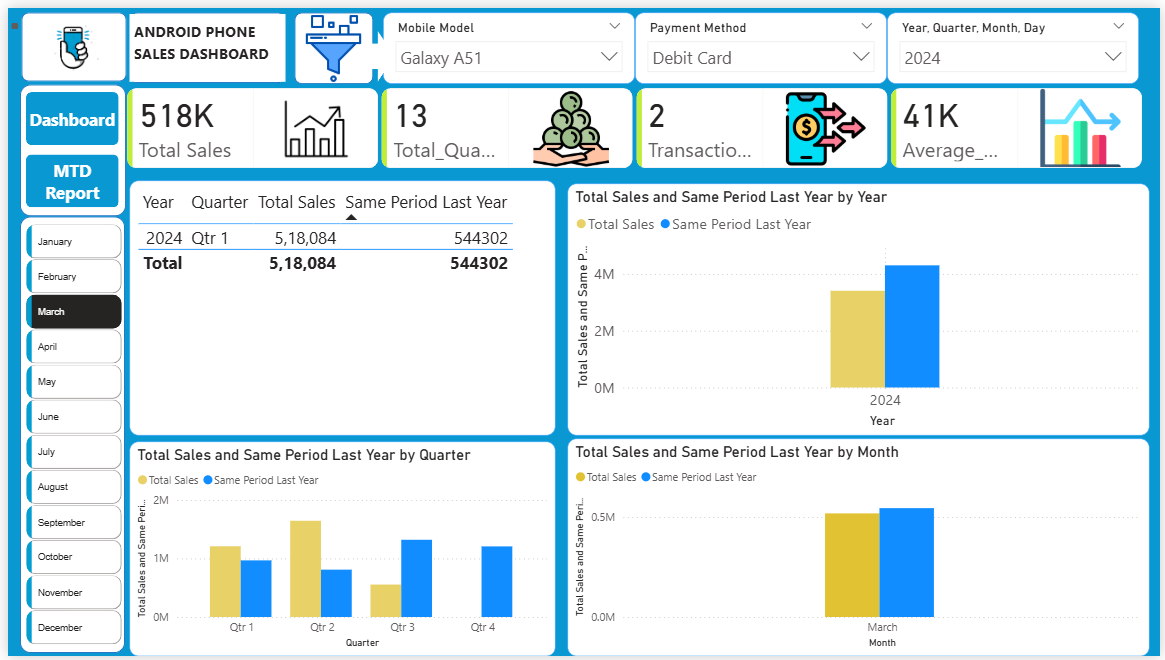

This screenshot's page, from the dashboard's own definition file:
{"tool":"powerbi","page":{"name":"Same Period Last Year","canvas":[1280,720],"ordinal":2},"visuals":[{"type":"shape","box":[13.3,231.7,116.7,485],"z":0},{"type":"shape","box":[15,5,116.7,76.7],"z":1000},{"type":"image","box":[0,13.3,145,65],"z":2000},{"type":"shape","box":[12.7,84.3,117.7,146.3],"z":3000},{"type":"cardVisual","fields":{"Data":["Android Smartphone Sales Report.Total Sales","Android Smartphone Sales Report.Total_Quantity","Android Smartphone Sales Report.Transactions","Android Smartphone Sales Report.Average_Price"]},"box":[115,71.7,1165,123.3],"z":4000},{"type":"slicer","fields":{"Values":["Android Smartphone Sales Report.Mobile Model"]},"box":[416.7,4.8,279.9,79.5],"z":5000},{"type":"slicer","fields":{"Values":["Android Smartphone Sales Report.Payment Method"]},"box":[696.7,4.8,279.9,79.5],"z":6000},{"type":"slicer","fields":{"Values":["Custom Calender.Date.Variation.Date Hierarchy.Year","Custom Calender.Date.Variation.Date Hierarchy.Quarter","Custom Calender.Date.Variation.Date Hierarchy.Month","Custom Calender.Date.Variation.Date Hierarchy.Day"]},"box":[976.6,4.8,279.9,79.5],"z":7000},{"type":"shape","box":[318.1,4.8,87.5,79.5],"z":8000},{"type":"image","box":[308.6,6.4,106.6,76.3],"z":9000},{"type":"shape","box":[391.3,25.4,38.2,57.3],"z":10000},{"type":"shape","box":[135,5,173.3,78.3],"z":11000},{"type":"textbox","box":[135,6.7,173.3,75],"z":12000},{"type":"advancedSlicerVisual","fields":{"Values":["Custom Calender.Date.Variation.Date Hierarchy.Month"]},"box":[15,235,116.7,485],"z":14000},{"type":"tableEx","fields":{"Values":["Custom Calender.Date.Variation.Date Hierarchy.Year","Custom Calender.Date.Variation.Date Hierarchy.Quarter","Android Smartphone Sales Report.Total Sales","Android Smartphone Sales Report.Same Period Last Year"]},"box":[135,191.7,473.3,283.3],"z":14001},{"type":"actionButton","box":[0,0,15,40],"z":14002},{"type":"clusteredColumnChart","fields":{"Category":["Custom Calender.Date.Variation.Date Hierarchy.Year","Custom Calender.Date.Variation.Date Hierarchy.Quarter"],"Y":["Android Smartphone Sales Report.Total Sales","Android Smartphone Sales Report.Same Period Last Year"]},"box":[621.7,195,646.7,280],"z":14003},{"type":"clusteredColumnChart","fields":{"Y":["Android Smartphone Sales Report.Total Sales","Android Smartphone Sales Report.Same Period Last Year"],"Category":["Custom Calender.Date.Variation.Date Hierarchy.Year","Custom Calender.Date.Variation.Date Hierarchy.Quarter","Custom Calender.Date.Variation.Date Hierarchy.Month","Custom Calender.Date.Variation.Date Hierarchy.Day"]},"box":[621.7,478.3,646.7,241.7],"z":14004},{"type":"clusteredColumnChart","fields":{"Category":["Custom Calender.Date.Variation.Date Hierarchy.Year","Custom Calender.Date.Variation.Date Hierarchy.Quarter"],"Y":["Android Smartphone Sales Report.Total Sales","Android Smartphone Sales Report.Same Period Last Year"]},"box":[135,481.7,473.3,238.3],"z":14005},{"type":"pageNavigator","box":[20,93.3,103.3,128.3],"z":14006}]}

Visuals, with their boxes in screenshot pixels (x1, y1, x2, y2), scaled from the page's 1280x720 canvas onto the 1165x660 screenshot:
shape: rect(12, 212, 118, 657)
shape: rect(14, 5, 120, 75)
image: rect(0, 12, 132, 72)
shape: rect(12, 77, 119, 211)
cardVisual - Android Smartphone Sales Report.Total Sales x Android Smartphone Sales Report.Total_Quantity: rect(105, 66, 1164, 179)
slicer - Android Smartphone Sales Report.Mobile Model: rect(379, 4, 634, 77)
slicer - Android Smartphone Sales Report.Payment Method: rect(634, 4, 889, 77)
slicer - Custom Calender.Date.Variation.Date Hierarchy.Year x Custom Calender.Date.Variation.Date Hierarchy.Quarter: rect(889, 4, 1144, 77)
shape: rect(290, 4, 369, 77)
image: rect(281, 6, 378, 76)
shape: rect(356, 23, 391, 76)
shape: rect(123, 5, 281, 76)
textbox: rect(123, 6, 281, 75)
advancedSlicerVisual - Custom Calender.Date.Variation.Date Hierarchy.Month: rect(14, 215, 120, 659)
tableEx - Custom Calender.Date.Variation.Date Hierarchy.Year x Custom Calender.Date.Variation.Date Hierarchy.Quarter: rect(123, 176, 554, 435)
actionButton: rect(0, 0, 14, 37)
clusteredColumnChart - Custom Calender.Date.Variation.Date Hierarchy.Year x Custom Calender.Date.Variation.Date Hierarchy.Quarter: rect(566, 179, 1154, 435)
clusteredColumnChart - Android Smartphone Sales Report.Total Sales x Android Smartphone Sales Report.Same Period Last Year: rect(566, 438, 1154, 659)
clusteredColumnChart - Custom Calender.Date.Variation.Date Hierarchy.Year x Custom Calender.Date.Variation.Date Hierarchy.Quarter: rect(123, 442, 554, 659)
pageNavigator: rect(18, 86, 112, 203)
